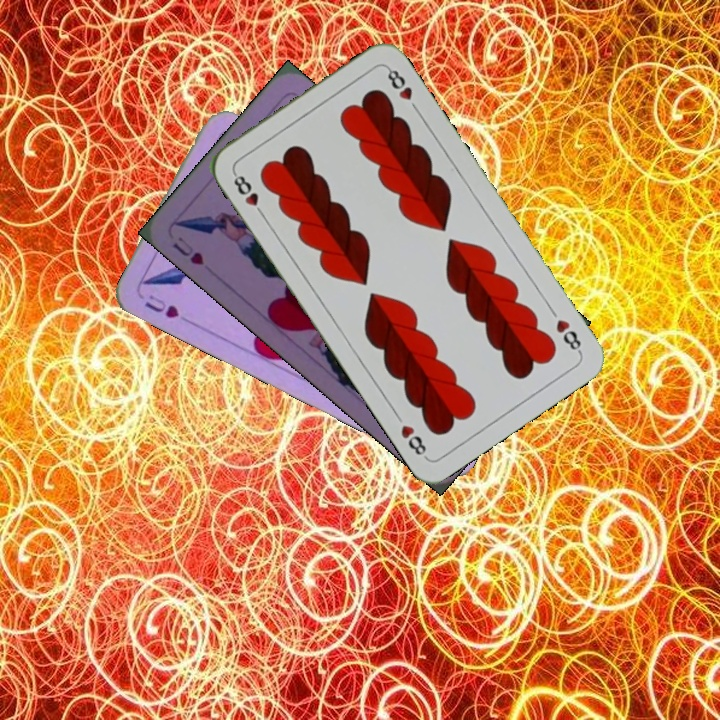H8: (229, 168, 268, 220), (552, 315, 585, 356)
HU: (168, 233, 207, 268), (140, 291, 182, 321)
